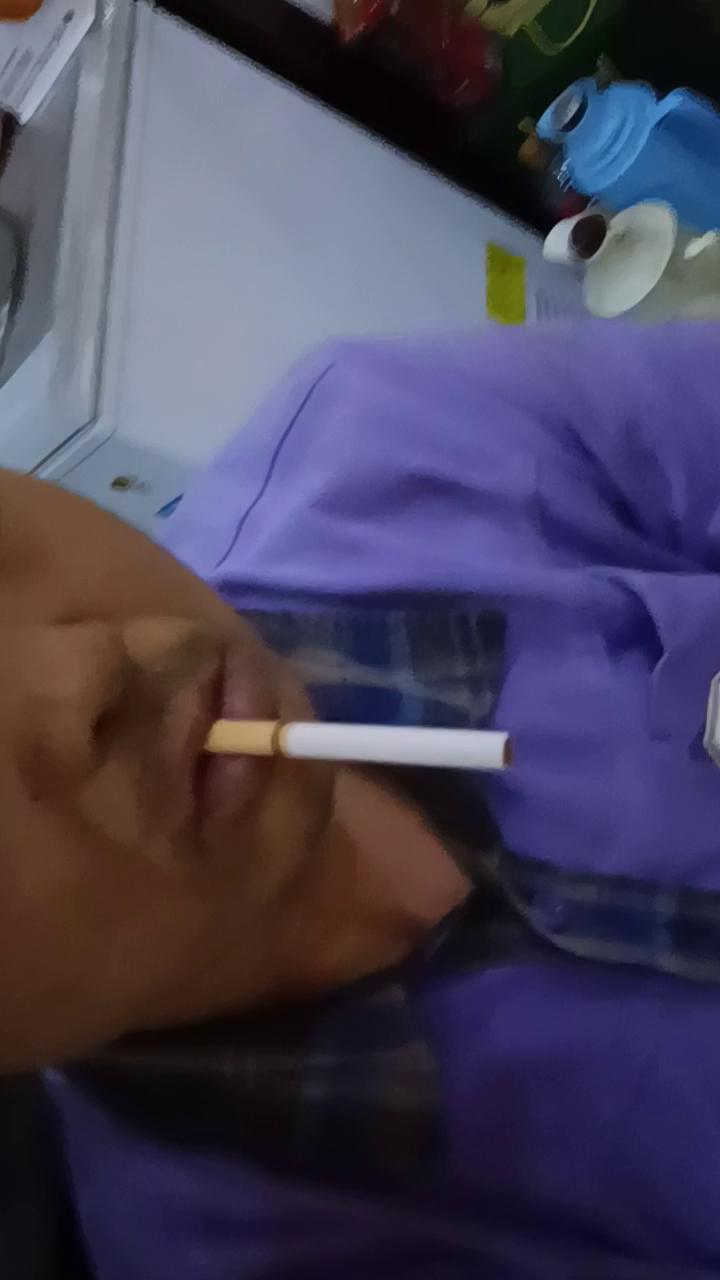smoke: (201, 720, 518, 774)
